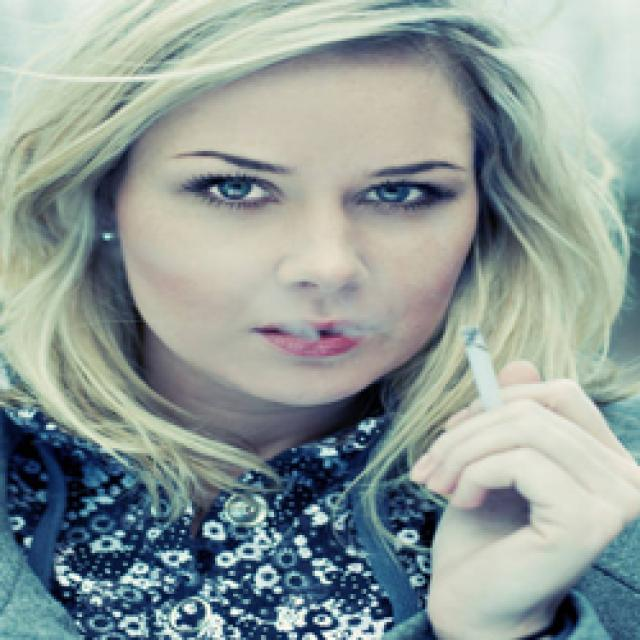Smooking: (453, 318, 514, 402)
